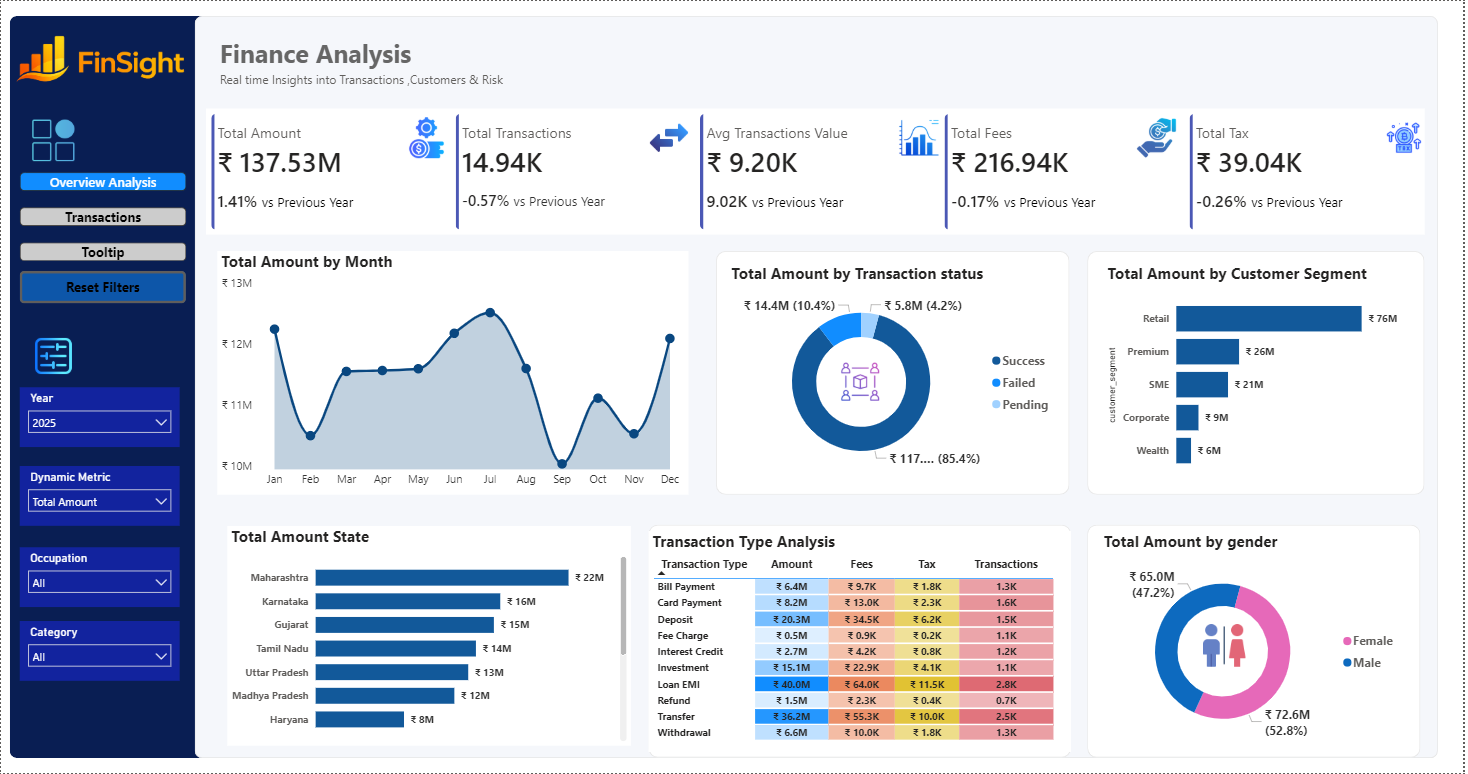

What the dashboard file says about the page in this screenshot:
{"tool":"powerbi","page":{"name":"Overview Analysis","canvas":[1800,950],"ordinal":0},"visuals":[{"type":"shape","box":[10,18.3,280,913.3],"z":0},{"type":"shape","box":[238.3,18.3,1530,913.3],"z":1000},{"type":"image","box":[10,18.3,228.3,106.7],"z":2000},{"type":"cardVisual","fields":{"Data":["finance_transactions.Dashboard_Title"]},"box":[251.7,18.3,396.7,113.3],"z":3000},{"type":"image","box":[38.3,131.7,51.7,78.3],"z":4000},{"type":"cardVisual","fields":{"Data":["finance_transactions.Total Amount","finance_transactions.Total Transactions","finance_transactions.Avg Transactions Value","finance_transactions.Total Fees","finance_transactions.Total Tax"]},"box":[251.7,131.7,1500,155],"z":5000},{"type":"slicer","fields":{"Values":["Calendar Table.Year"]},"box":[23.3,475,196.7,73.3],"z":6000},{"type":"image","box":[498.3,143.3,50,50],"z":7000},{"type":"image","box":[796.7,143.3,50,50],"z":8000},{"type":"image","box":[1105,143.3,50,50],"z":9000},{"type":"image","box":[1396.7,143.3,50,50],"z":10000},{"type":"image","box":[1701.7,143.3,50,50],"z":11000},{"type":"slicer","fields":{"Values":["Dynamic Metric.Dynamic Metric"]},"box":[23.3,571.7,196.7,73.3],"z":12000},{"type":"shape","box":[796.7,645,520,286.7],"z":13000},{"type":"areaChart","fields":{"Category":["Calendar Table.Month"],"Y":["finance_transactions.Total Amount"]},"box":[266.7,308.3,580,300],"z":14000},{"type":"shape","box":[880,308.3,435,300],"z":15000},{"type":"donutChart","title":"Total Amount by Transaction status","fields":{"Category":["finance_transactions.transaction_status"],"Y":["finance_transactions.Total Amount"]},"box":[893.3,321.7,410,270],"z":16000},{"type":"shape","box":[1336.7,308.3,415,300],"z":17000},{"type":"barChart","title":"Total Amount by Customer Segment","fields":{"Category":["customers.customer_segment"],"Y":["finance_transactions.Total Amount"]},"box":[1356.7,321.7,375,270],"z":18000},{"type":"barChart","title":"Total Amount State","fields":{"Category":["customers.state"],"Y":["finance_transactions.Total Amount"]},"box":[278.3,646.7,496.7,270],"z":19000},{"type":"shape","box":[1336.7,645,410,286.7],"z":20000},{"type":"tableEx","title":"Transaction Type Analysis","fields":{"Values":["finance_transactions.transaction_type","finance_transactions.Total Amount","finance_transactions.Total Fees","finance_transactions.Total Tax","finance_transactions.Total Transactions"]},"box":[796.7,651.7,520,271.7],"z":21000},{"type":"donutChart","fields":{"Category":["customers.gender"],"Y":["finance_transactions.Total Amount"]},"box":[1351.7,651.7,375,271.7],"z":22000},{"type":"image","box":[1470,763.3,70,60],"z":23000},{"type":"image","box":[1031.7,436.7,50,63.3],"z":24000},{"type":"slicer","fields":{"Values":["customers.occupation"]},"box":[23.3,671.7,196.7,73.3],"z":25000},{"type":"slicer","fields":{"Values":["finance_transactions.merchant_category"]},"box":[23.3,763.3,196.7,73.3],"z":26000},{"type":"image","box":[38.3,396.7,51.7,80],"z":27000},{"type":"pageNavigator","box":[23.3,210,205,111.7],"z":28000},{"type":"actionButton","box":[23.5,332.4,204.4,39.7],"z":29000}]}

Visuals, with their boxes on the page's 1800x950 design canvas (x1, y1, x2, y2). These are canvas units, not pixel positions in the 1468x774 screenshot, which may show the page scaled, cropped or inside an application window:
shape: x1=10, y1=18, x2=290, y2=932
shape: x1=238, y1=18, x2=1768, y2=932
image: x1=10, y1=18, x2=238, y2=125
cardVisual - finance_transactions.Dashboard_Title: x1=252, y1=18, x2=648, y2=132
image: x1=38, y1=132, x2=90, y2=210
cardVisual - finance_transactions.Total Amount x finance_transactions.Total Transactions: x1=252, y1=132, x2=1752, y2=287
slicer - Calendar Table.Year: x1=23, y1=475, x2=220, y2=548
image: x1=498, y1=143, x2=548, y2=193
image: x1=797, y1=143, x2=847, y2=193
image: x1=1105, y1=143, x2=1155, y2=193
image: x1=1397, y1=143, x2=1447, y2=193
image: x1=1702, y1=143, x2=1752, y2=193
slicer - Dynamic Metric.Dynamic Metric: x1=23, y1=572, x2=220, y2=645
shape: x1=797, y1=645, x2=1317, y2=932
areaChart - Calendar Table.Month x finance_transactions.Total Amount: x1=267, y1=308, x2=847, y2=608
shape: x1=880, y1=308, x2=1315, y2=608
"Total Amount by Transaction status" donutChart: x1=893, y1=322, x2=1303, y2=592
shape: x1=1337, y1=308, x2=1752, y2=608
"Total Amount by Customer Segment" barChart: x1=1357, y1=322, x2=1732, y2=592
"Total Amount State" barChart: x1=278, y1=647, x2=775, y2=917
shape: x1=1337, y1=645, x2=1747, y2=932
"Transaction Type Analysis" tableEx: x1=797, y1=652, x2=1317, y2=923
donutChart - customers.gender x finance_transactions.Total Amount: x1=1352, y1=652, x2=1727, y2=923
image: x1=1470, y1=763, x2=1540, y2=823
image: x1=1032, y1=437, x2=1082, y2=500
slicer - customers.occupation: x1=23, y1=672, x2=220, y2=745
slicer - finance_transactions.merchant_category: x1=23, y1=763, x2=220, y2=837
image: x1=38, y1=397, x2=90, y2=477
pageNavigator: x1=23, y1=210, x2=228, y2=322
actionButton: x1=24, y1=332, x2=228, y2=372
